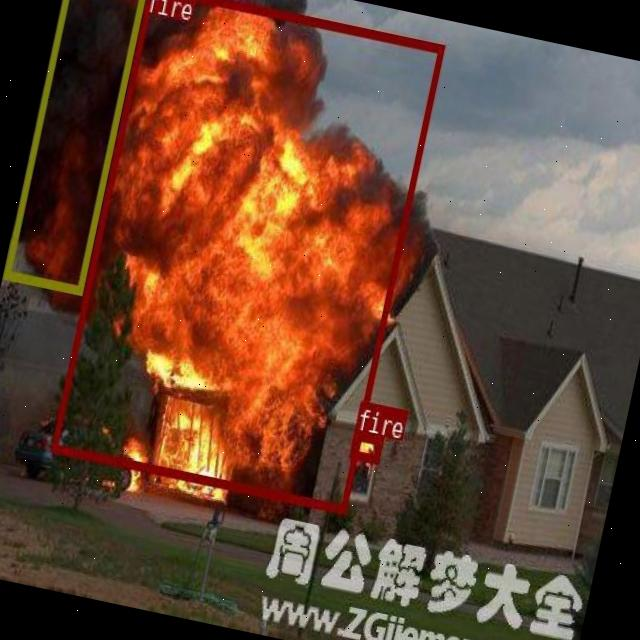fire: (50, 0, 444, 512), (348, 430, 384, 462)
smoke: (3, 0, 151, 292)
